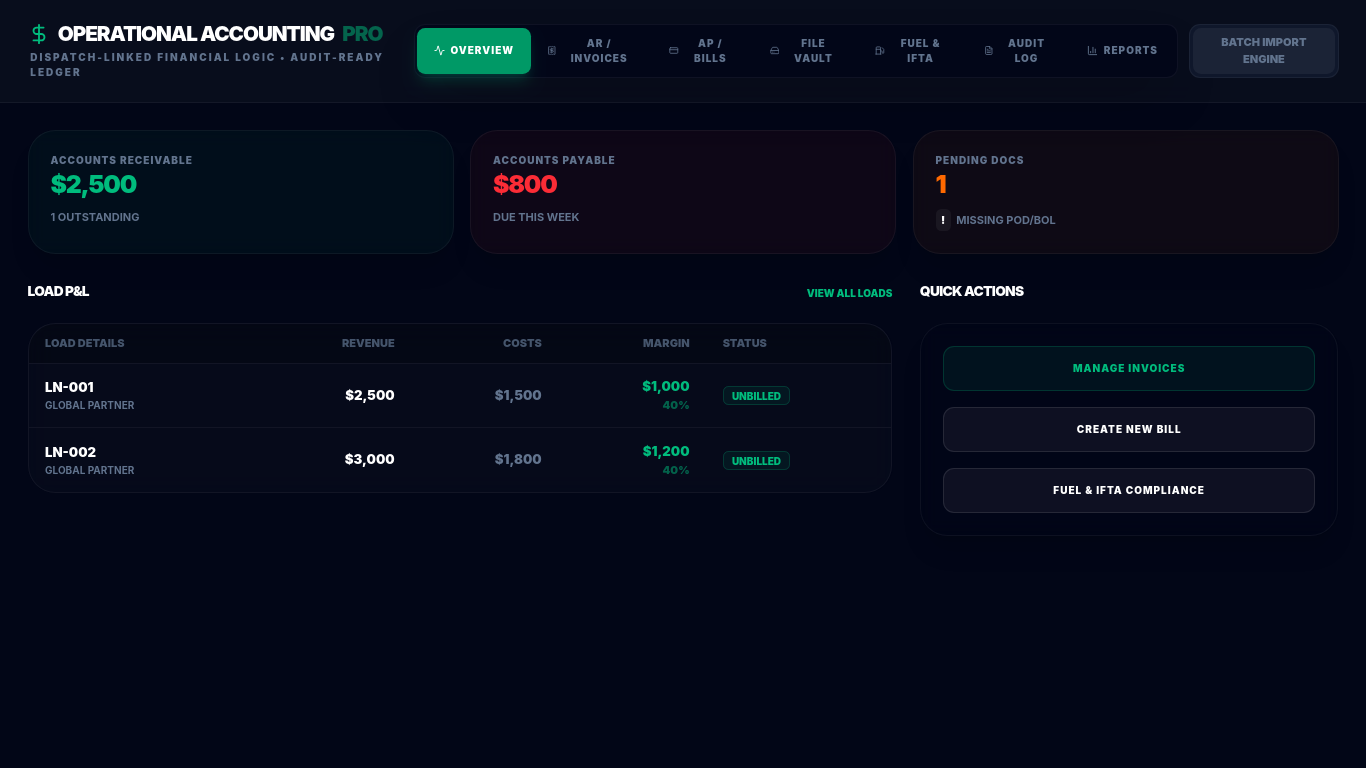
it: AccountingPortal Remediation (C-2) › R-P4-04: Hardcoded values removed › R-P4-04: Audit log entries are not hardcoded
Check: the button "Overview" is shown, box [417,28,530,74]
Click the button "Audit Log". click: (1019, 51)
box: [967,28,1071,74]
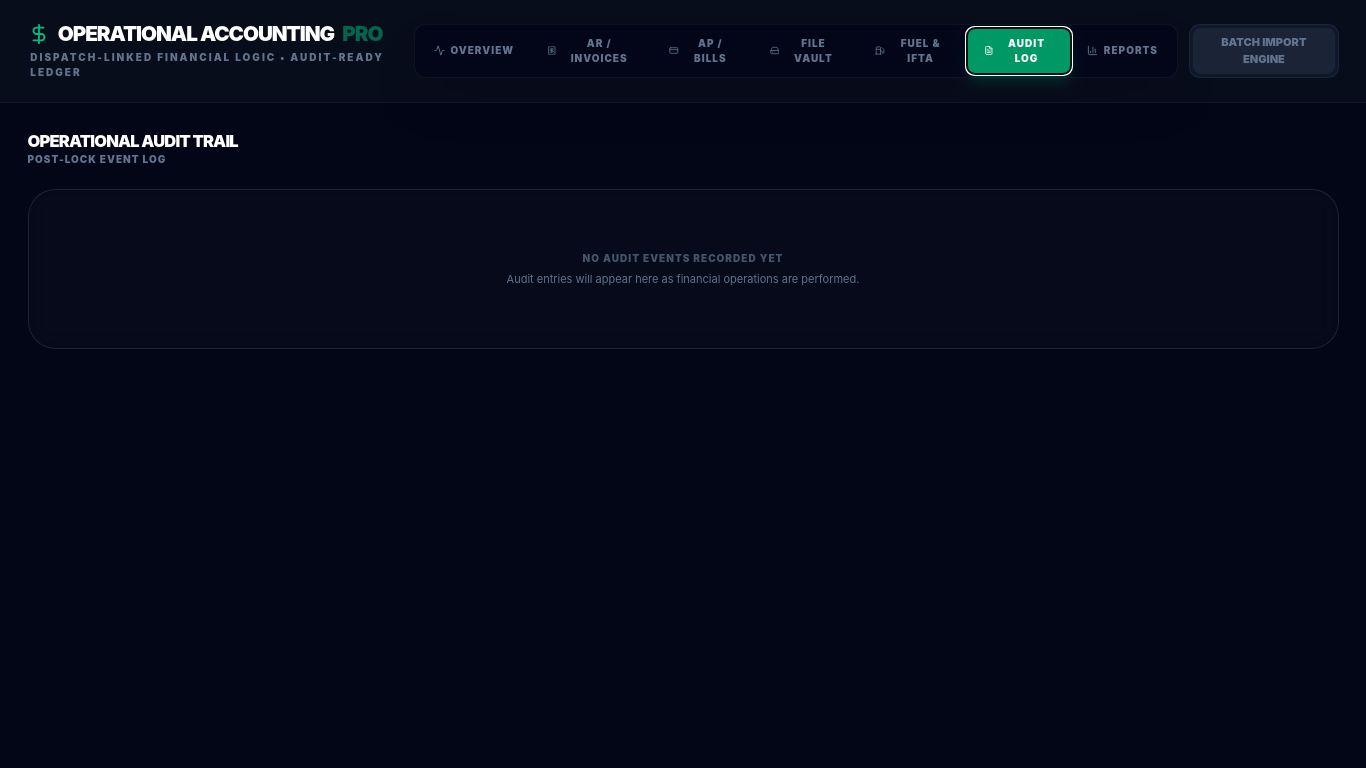
Check: the heading "Operational Audit Trail" is shown, box [28,130,238,152]
Check: the text "Invoice #INV-902 Sent to HUB Group" is gone
